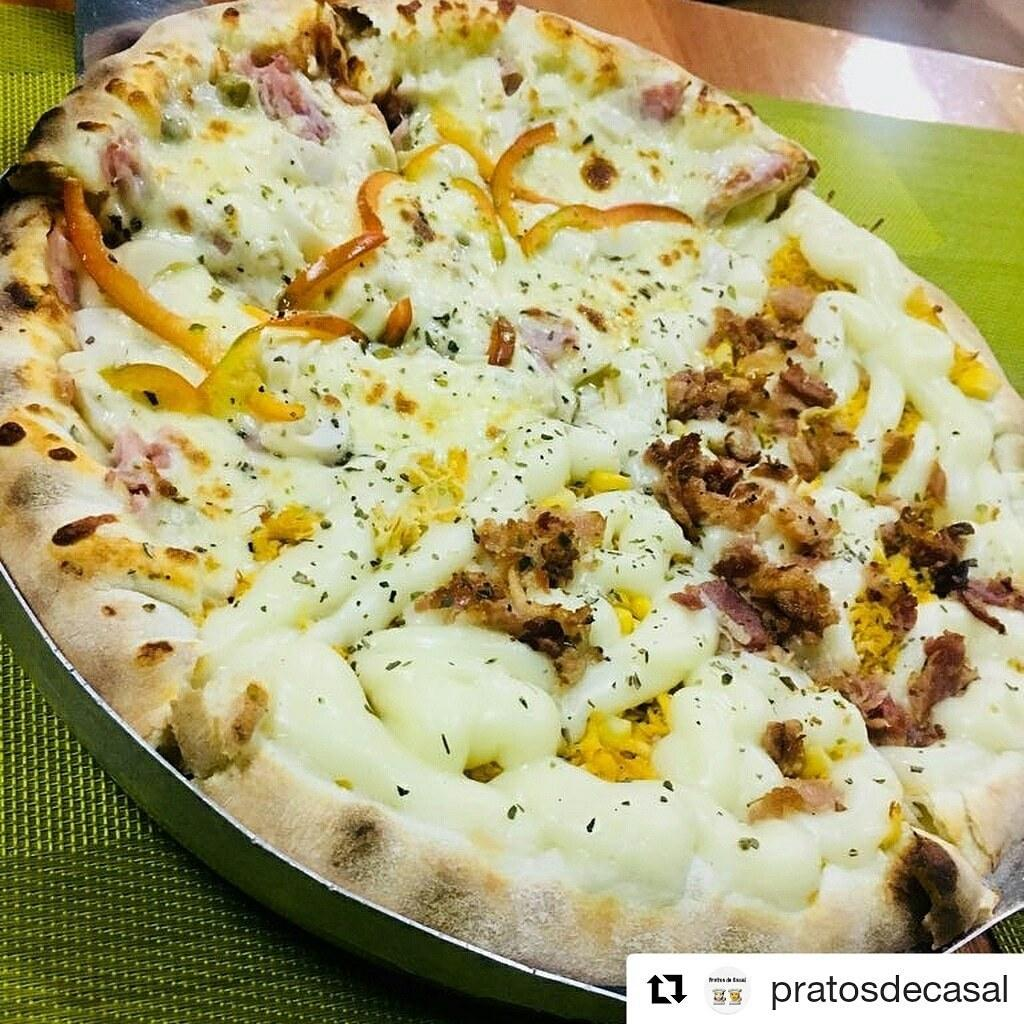Corn: (607, 584, 659, 646), (960, 361, 1004, 404)
Peppers: (60, 183, 216, 364), (523, 200, 694, 262), (262, 296, 420, 349), (196, 312, 265, 422), (494, 124, 554, 248), (286, 233, 385, 304), (97, 363, 204, 411), (452, 173, 507, 266), (357, 167, 405, 233)
Pizza: (0, 0, 1024, 946)
